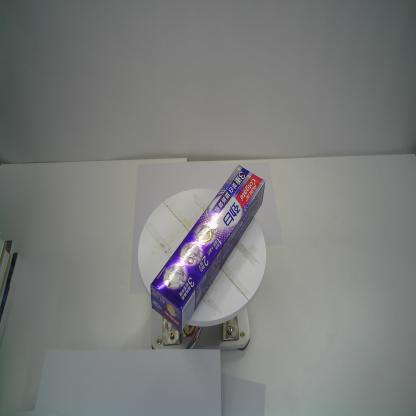Personal Hygiene: (150, 165, 265, 334)
